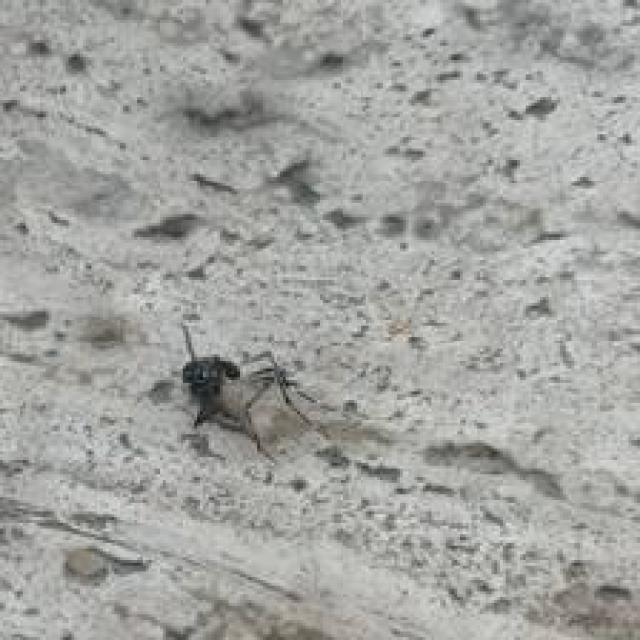Aedes albopictus: (173, 320, 321, 463)
